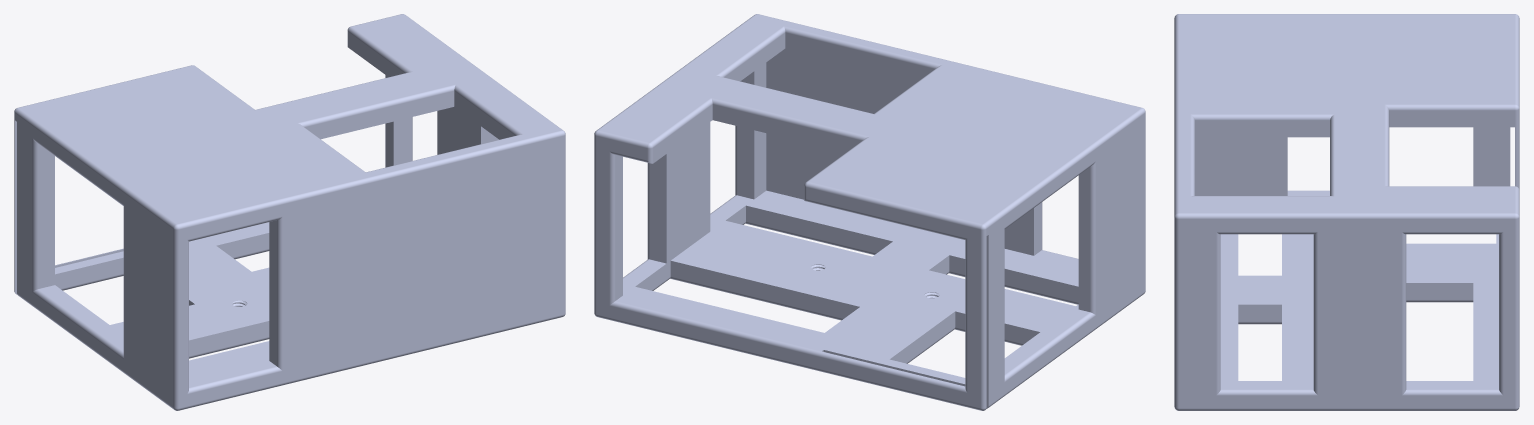
The model's file is Projector Casing.gltf.
The picture shows the model from 3 angles, left to right: view 1: azimuth 30°, elevation 25°; view 2: azimuth 150°, elevation 25°; view 3: azimuth 270°, elevation 25°; orthographic projection. The views are drawn at different scales.
Parts seen in each view (by area): view 1: Projector Casing; view 2: Projector Casing; view 3: Projector Casing.
Part boxes in pixels (<box>): Projector Casing: <box>14,14,565,410</box>; Projector Casing: <box>594,14,1145,410</box>; Projector Casing: <box>1174,14,1519,410</box>.
Size of the model in its own units: 0.2625 by 0.1194 by 0.1891.
